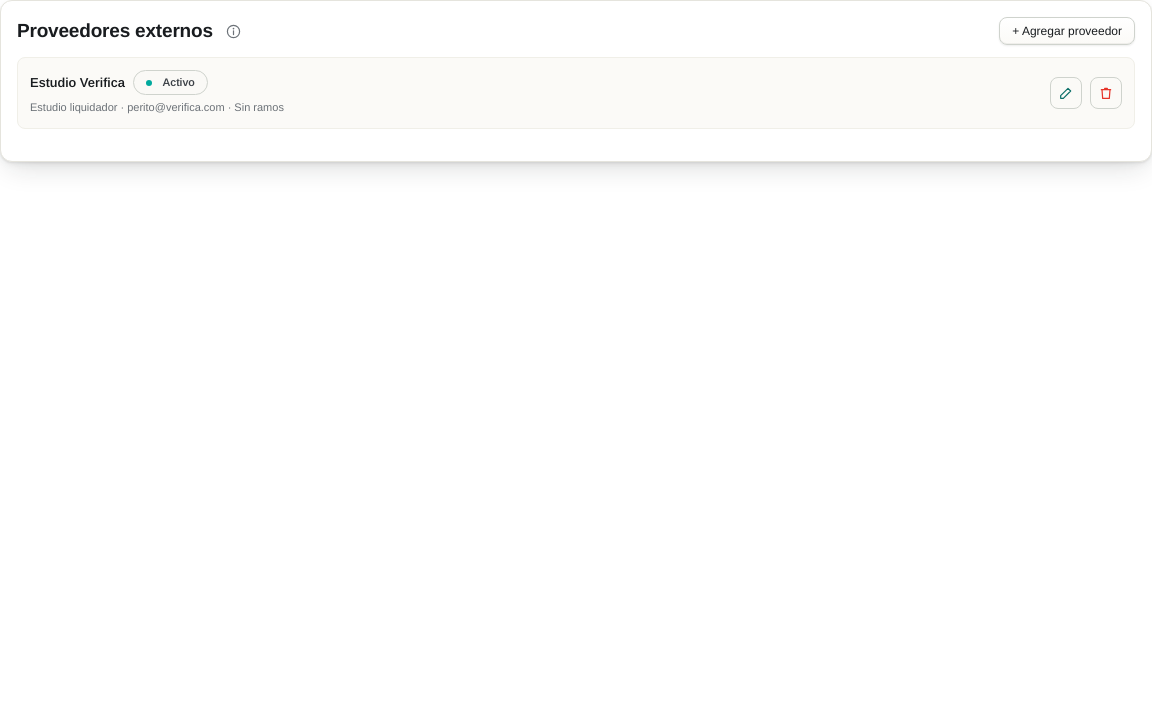
Test: ProvidersConfigComponent › opens a provider stored without branches with none checked
Click the 2nd icon at {"x": 1066, "y": 93}, box [1050, 77, 1082, 109]
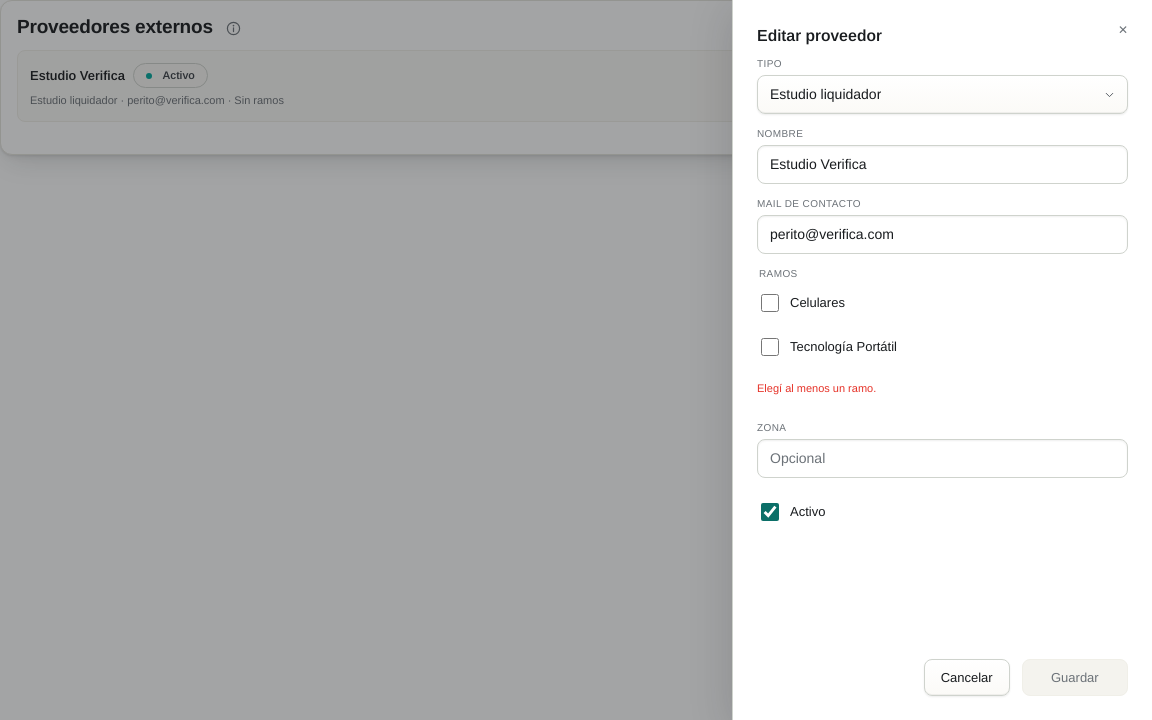
Result: the button "Guardar" is disabled at [1022, 658, 1128, 696]
